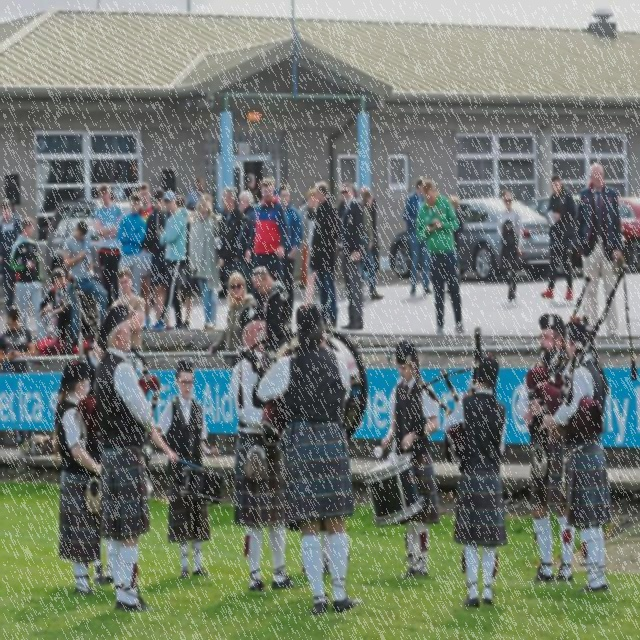pessoa: (254, 301, 364, 620), (536, 318, 616, 598), (93, 301, 159, 615), (230, 304, 300, 596), (514, 308, 580, 587), (441, 351, 508, 612), (378, 338, 442, 584), (150, 358, 219, 581), (54, 356, 106, 604), (573, 159, 624, 340), (414, 177, 467, 338), (243, 176, 291, 307), (306, 178, 342, 332), (149, 190, 188, 332), (63, 218, 109, 336), (208, 268, 260, 371), (8, 216, 48, 342), (539, 170, 577, 302), (187, 192, 222, 332), (115, 190, 148, 330), (336, 181, 366, 332), (401, 175, 434, 296), (144, 188, 172, 330), (276, 183, 303, 330), (94, 182, 125, 308), (250, 265, 294, 353), (358, 188, 386, 302), (110, 267, 147, 353), (217, 186, 244, 299), (136, 181, 156, 332), (496, 188, 522, 304), (0, 198, 23, 326), (38, 267, 75, 342), (174, 194, 194, 330), (0, 306, 38, 376), (298, 186, 320, 304), (234, 188, 256, 284), (444, 193, 464, 296), (93, 536, 115, 586), (368, 196, 381, 272), (184, 178, 206, 210), (295, 242, 308, 290), (243, 172, 260, 204), (350, 182, 369, 202), (252, 175, 264, 204)
